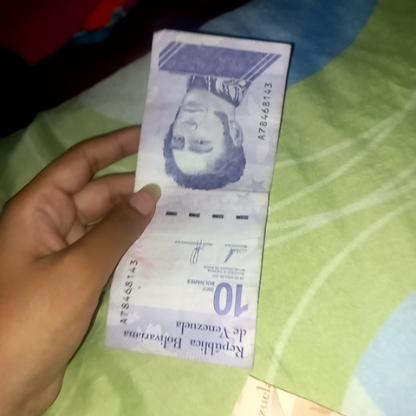ten-front-vef: (108, 28, 290, 369)
